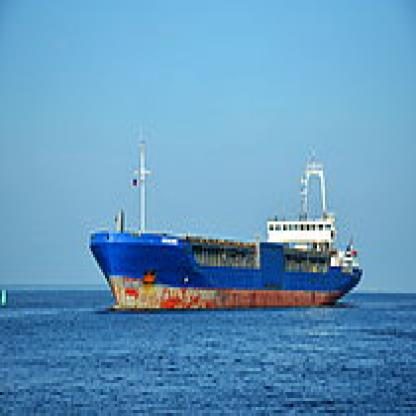Tanker: (80, 129, 366, 323)
